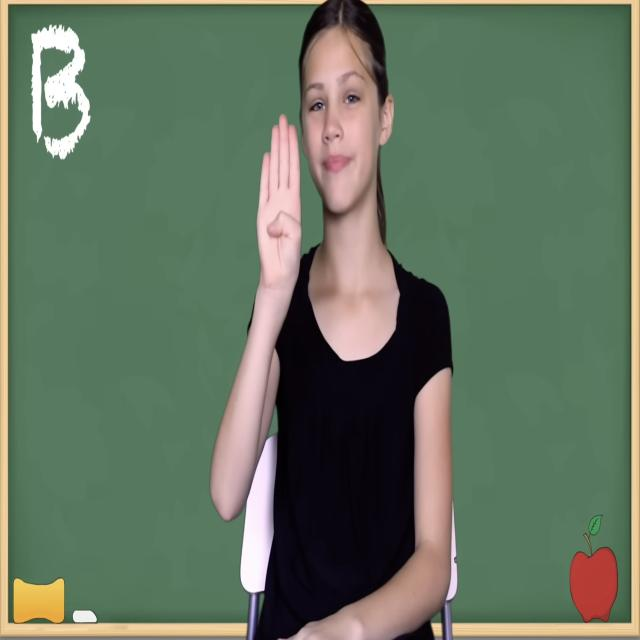B: (243, 102, 316, 314)
